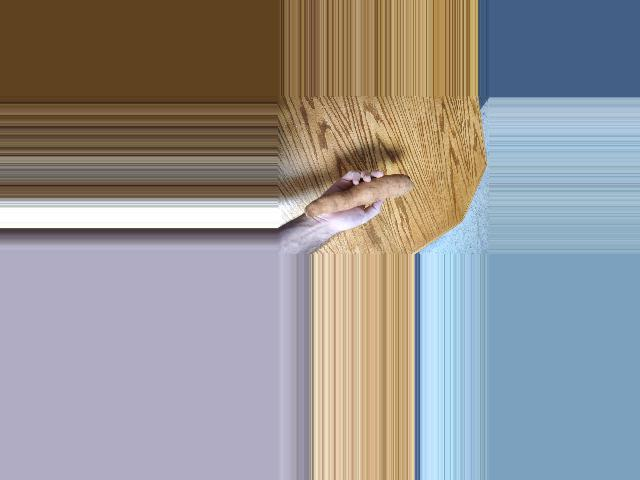sweet_potato: (310, 171, 407, 212)
